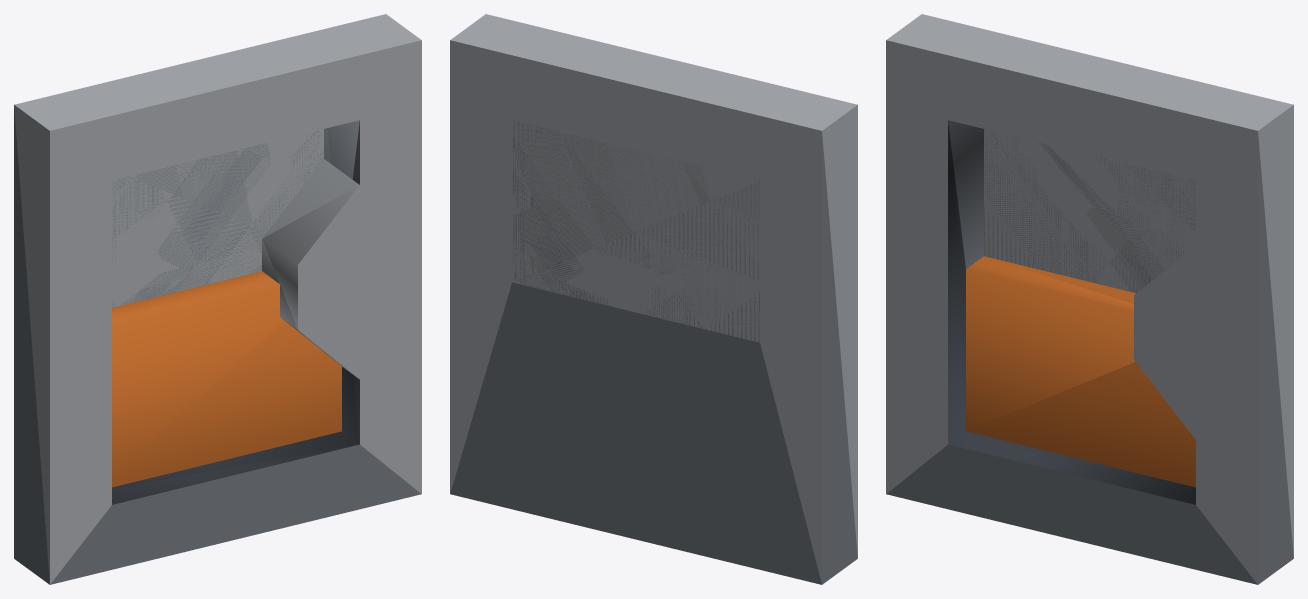
Rendered from Kit_door-double-closed.fbx.
The picture shows the model from 3 angles, left to right: view 1: azimuth 30°, elevation 25°; view 2: azimuth 150°, elevation 25°; view 3: azimuth 330°, elevation 25°; orthographic projection.
Parts seen in each view (by area): view 1: Kit_door-double-closed; view 2: Kit_door-double-closed; view 3: Kit_door-double-closed.
Boxes of the visible parts, x1,y1,x2,y2 form: Kit_door-double-closed: (14, 14, 421, 584); Kit_door-double-closed: (450, 14, 857, 584); Kit_door-double-closed: (886, 14, 1293, 584).
Size of the model in its own units: 0.6 by 0.7 by 0.1.
